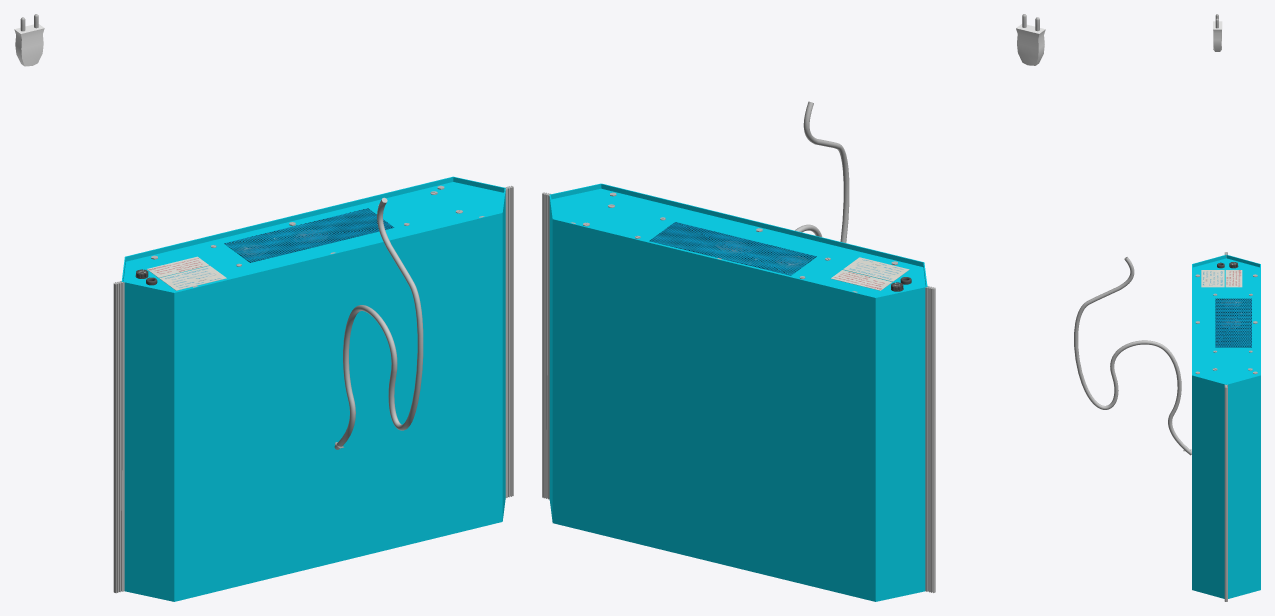
Rendered from kenbak-1.glb.
The picture shows the model from 3 angles, left to right: view 1: azimuth 30°, elevation 25°; view 2: azimuth 150°, elevation 25°; view 3: azimuth 270°, elevation 25°; orthographic projection. The views are drawn at different scales.
Parts seen in each view (by area): view 1: BaseBottom, inside_1, Cube_17, Cube_20, Powercord_2, Cube_22, BaseTop, PowerCordAdapter, Cube_1, Cube; view 2: BaseTop, inside_1, Cube_17, Cube_20, Cube_22, BaseBottom, Powercord_2, PowerCordAdapter, Cube_1; view 3: BaseBottom, BaseTop, inside_1, Powercord_2, Cube_17, Cube_22, Cube_1, Cube.
Part boxes in pixels (<box>): BaseBottom: <box>122,188,505,601</box>; inside_1: <box>123,182,503,292</box>; Cube_17: <box>224,208,394,262</box>; Cube_20: <box>113,281,124,593</box>; Powercord_2: <box>334,197,423,449</box>; Cube_22: <box>504,185,513,497</box>; BaseTop: <box>121,176,504,281</box>; PowerCordAdapter: <box>14,24,44,66</box>; Cube_1: <box>159,266,226,290</box>; Cube: <box>147,256,209,277</box>; BaseTop: <box>549,195,926,601</box>; inside_1: <box>551,188,925,297</box>; Cube_17: <box>649,222,816,275</box>; Cube_20: <box>925,285,935,592</box>; Cube_22: <box>542,192,551,499</box>; BaseBottom: <box>550,183,927,286</box>; Powercord_2: <box>795,101,849,242</box>; PowerCordAdapter: <box>1016,24,1045,65</box>; Cube_1: <box>843,257,909,281</box>; BaseBottom: <box>1192,255,1226,598</box>; BaseTop: <box>1226,255,1260,598</box>; inside_1: <box>1193,258,1259,384</box>; Powercord_2: <box>1074,257,1191,455</box>; Cube_17: <box>1215,298,1251,347</box>; Cube_22: <box>1224,384,1227,601</box>; Cube_1: <box>1201,270,1224,287</box>; Cube: <box>1225,270,1242,287</box>.
Bounding box in the file's own units: 47.16 × 54.89 × 21.88.
Materials: 15 (6 with a texture image).
